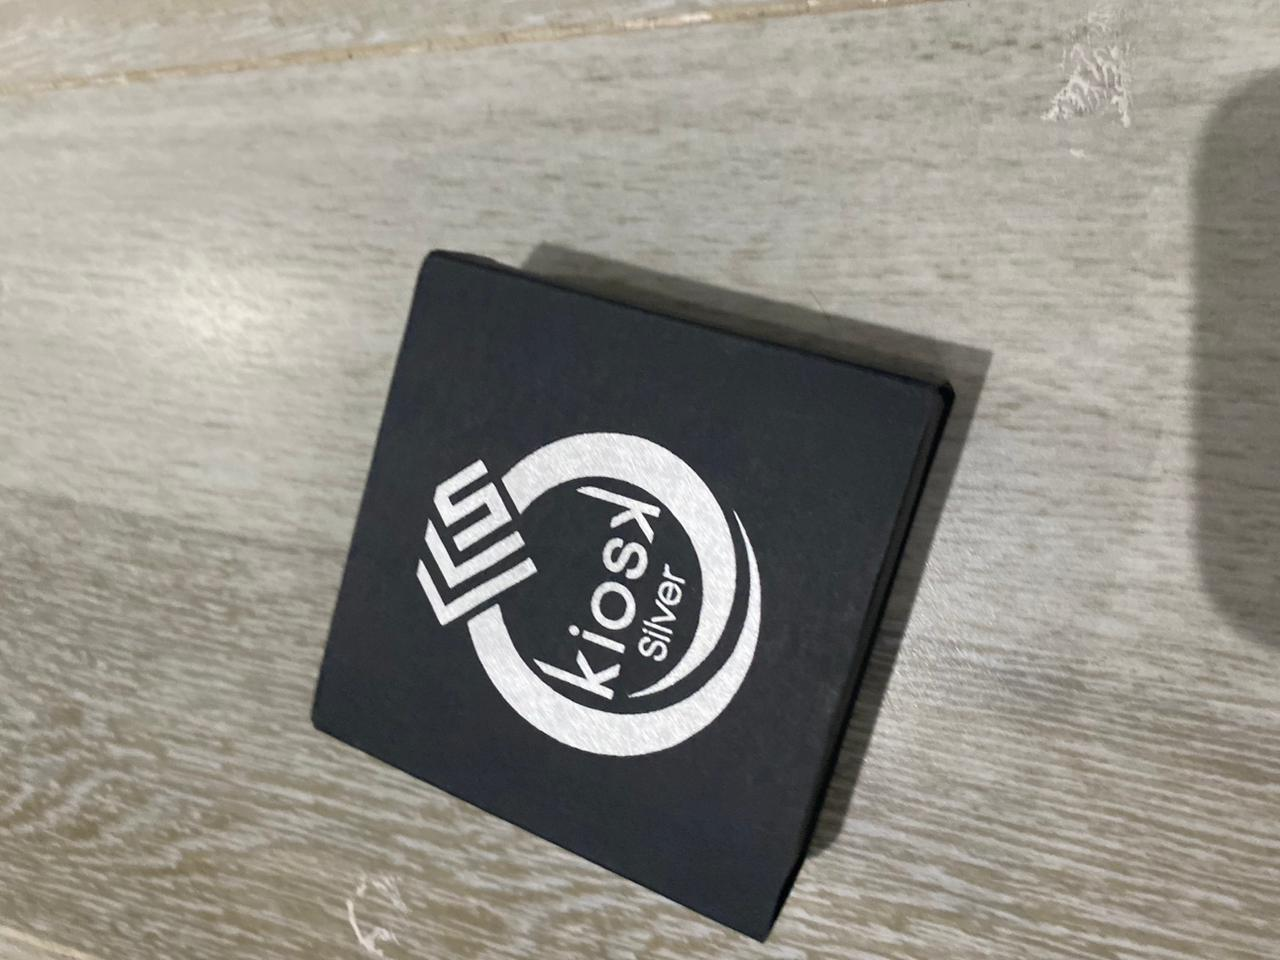Red Box: (299, 243, 968, 954)
